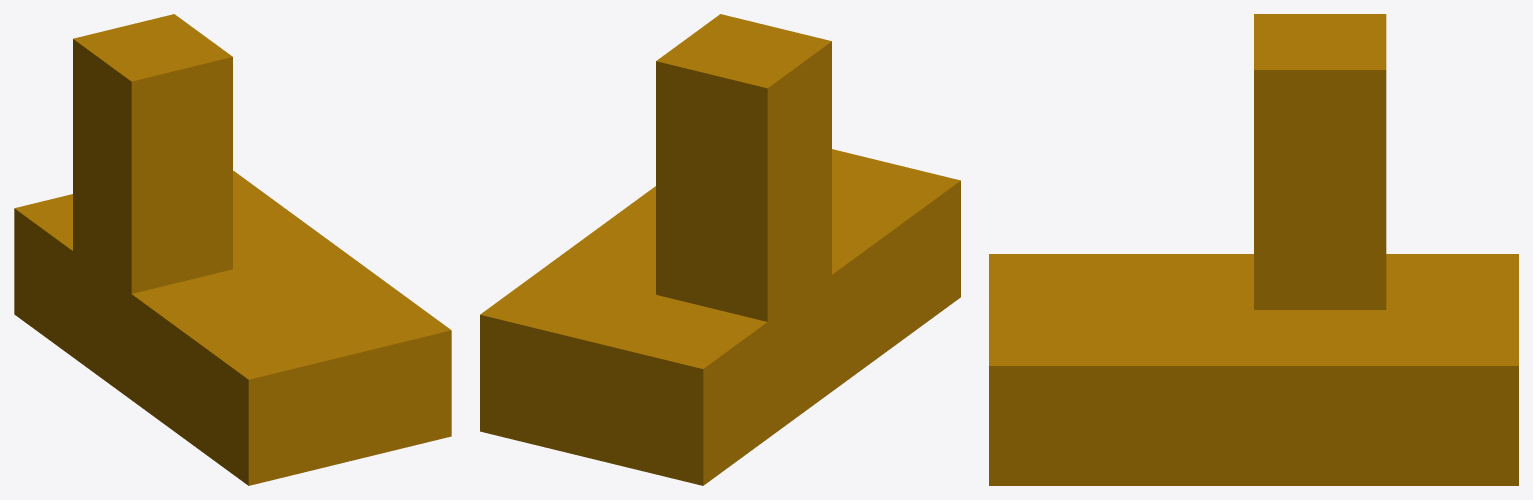
The model's file is Chicken_FootL.fbx.
3 views of the same model, side by side, from view 1: azimuth 30°, elevation 25°; view 2: azimuth 150°, elevation 25°; view 3: azimuth 270°, elevation 25° (orthographic). The views are drawn at different scales.
Visible parts, largest first — view 1: Chicken_FootL; view 2: Chicken_FootL; view 3: Chicken_FootL.
Part boxes in pixels (box(x1,y1,x2,y2)): Chicken_FootL: box(14, 14, 451, 485); Chicken_FootL: box(480, 14, 960, 485); Chicken_FootL: box(989, 14, 1518, 485).
Bounding box in the file's own units: 20 × 30 × 40.
